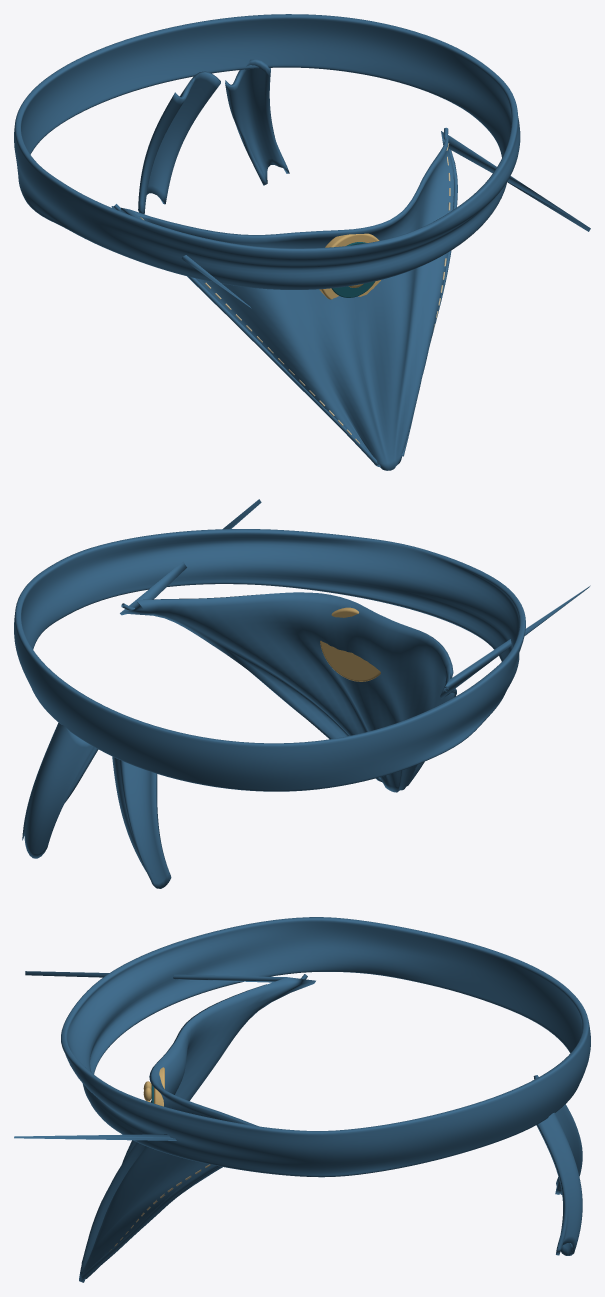
Rendered from nemo_travel_outfit_v3.glb.
The picture shows the model from 3 angles, top to bottom: view 1: azimuth 30°, elevation 25°; view 2: azimuth 150°, elevation 25°; view 3: azimuth 270°, elevation 25°; orthographic projection.
Parts seen in each view (by area): view 1: nemo_travel_outfit_v3__WovenCloth_TravelBlue, nemo_travel_outfit_v3__SatinBrass_PawBrooch; view 2: nemo_travel_outfit_v3__WovenCloth_TravelBlue, nemo_travel_outfit_v3__SatinBrass_PawBrooch; view 3: nemo_travel_outfit_v3__WovenCloth_TravelBlue.
Part boxes in pixels (<box>): nemo_travel_outfit_v3__WovenCloth_TravelBlue: <box>14,14,590,470</box>; nemo_travel_outfit_v3__SatinBrass_PawBrooch: <box>319,233,380,299</box>; nemo_travel_outfit_v3__WovenCloth_TravelBlue: <box>14,499,590,888</box>; nemo_travel_outfit_v3__SatinBrass_PawBrooch: <box>320,607,380,681</box>; nemo_travel_outfit_v3__WovenCloth_TravelBlue: <box>14,917,590,1282</box>.
Size of the model in its own units: 0.969 by 0.5499 by 1.08.
